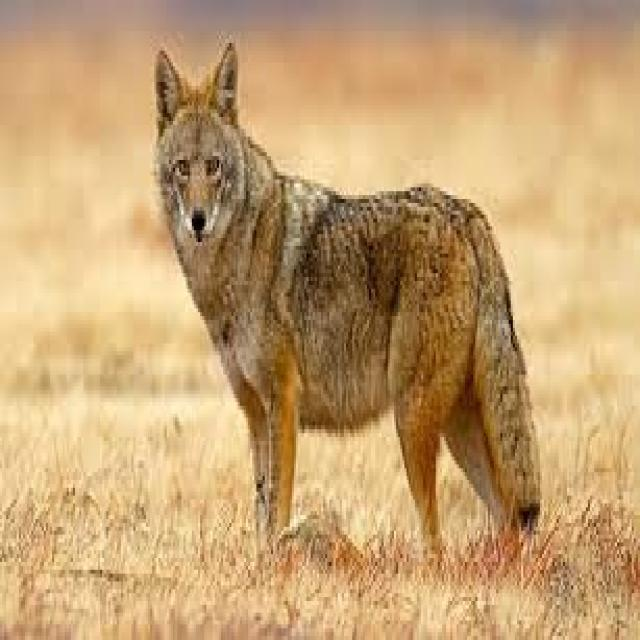Coyote: (148, 30, 546, 568)
